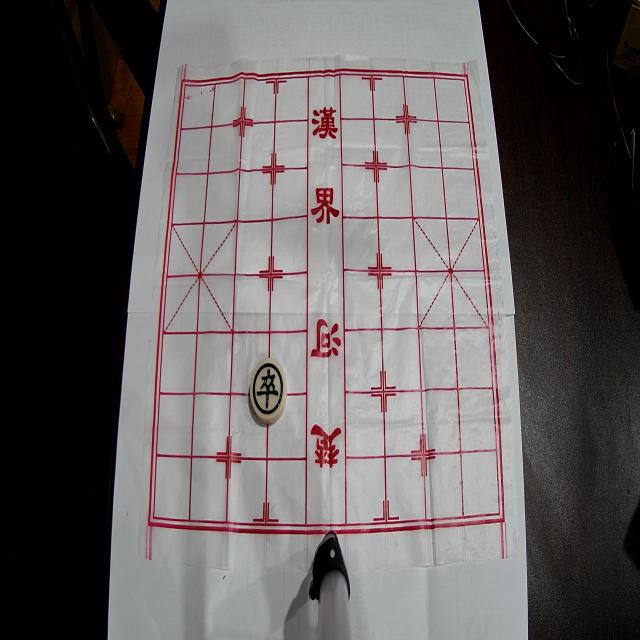black-soldier: (250, 358, 287, 423)
